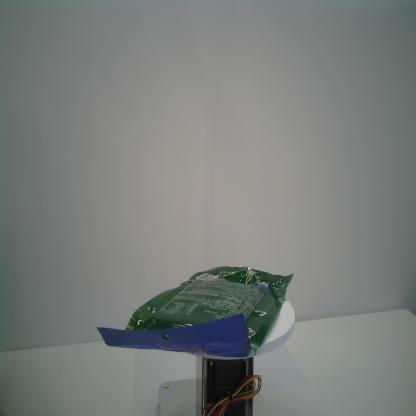Dried Food: (96, 265, 295, 360)
